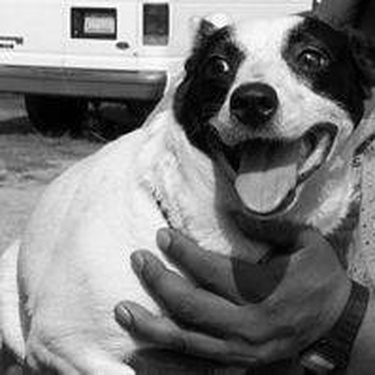dog: (5, 1, 370, 370)
